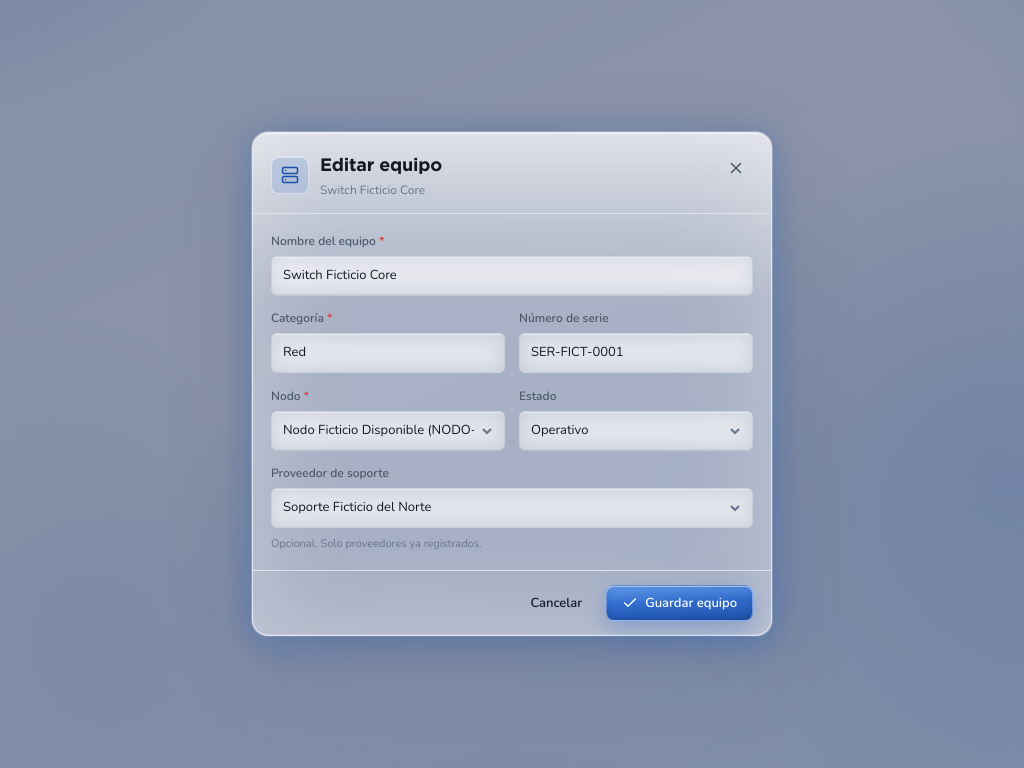
it: EquipmentFormModal — reparto de los conflictos 409 › el 409 por volver a Operativo con mantenimiento activo va al error general
Check: the field with placeholder "Switch core" is shown, box 271,256 -> 753,295
Click the button "Guardar equipo" at (680, 603), box 606,585 -> 753,621
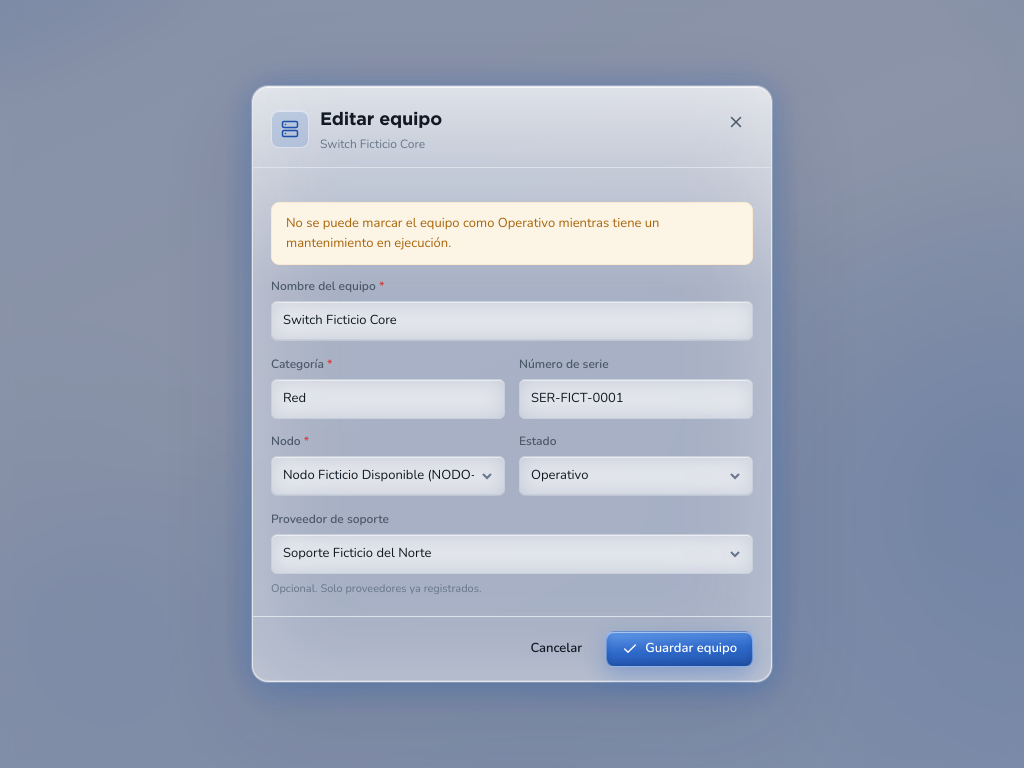
Check: the message shows "No se puede marcar el equipo como Operativo mientras tiene un mantenimiento en ejecución.", box 286,214 -> 660,252
